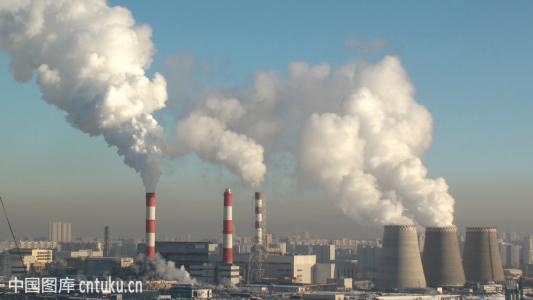dust: (8, 12, 165, 198), (348, 55, 464, 236), (301, 120, 416, 232), (176, 91, 274, 201)
